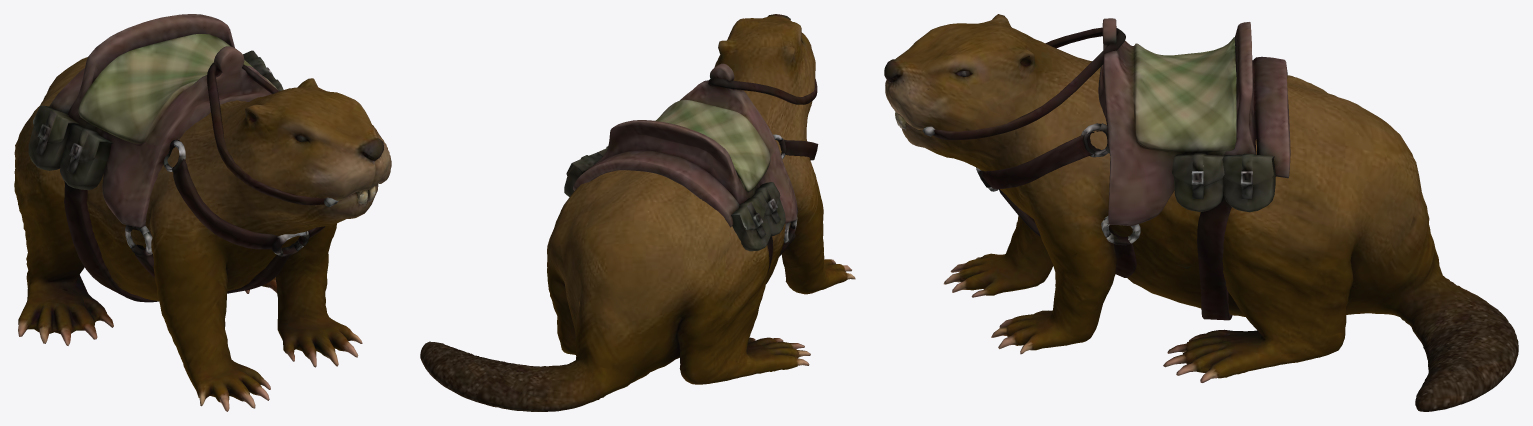
Rendered from MZ4250 - Beaver Mount_2025.glb.
3 renders of one model, left to right at view 1: azimuth 30°, elevation 25°; view 2: azimuth 150°, elevation 25°; view 3: azimuth 270°, elevation 25°, orthographic. The views are drawn at different scales.
Parts seen in each view (by area): view 1: ORGANIC BASE SPHERE.001; view 2: ORGANIC BASE SPHERE.001; view 3: ORGANIC BASE SPHERE.001.
Boxes of the visible parts, x1,y1,x2,y2 form: ORGANIC BASE SPHERE.001: [14, 14, 391, 411]; ORGANIC BASE SPHERE.001: [420, 14, 855, 411]; ORGANIC BASE SPHERE.001: [884, 14, 1518, 411].
Bounding box in the file's own units: 89.51 × 68.66 × 132.
Materials: 2 (2 with a texture image).
